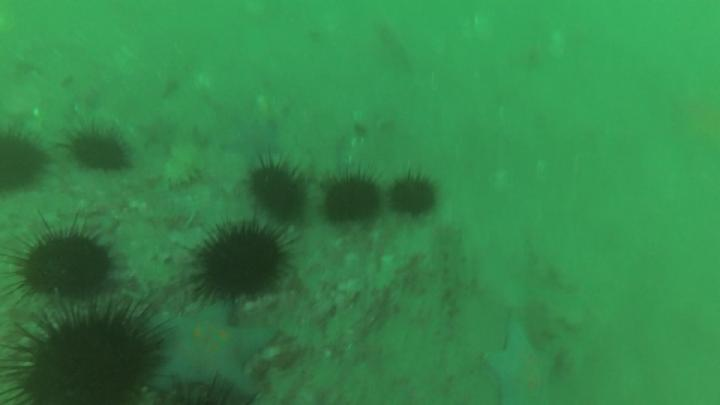echinus: (17, 313, 161, 405), (19, 234, 113, 298), (202, 228, 285, 296), (244, 167, 303, 225), (323, 175, 380, 224), (3, 137, 42, 195), (73, 134, 129, 173), (391, 176, 437, 218)
holothurian: (167, 138, 204, 181)
starfish: (150, 296, 274, 394), (489, 319, 559, 405), (225, 120, 282, 164)
